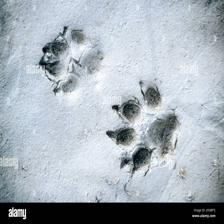wolf: (104, 78, 182, 178), (37, 25, 107, 97)
